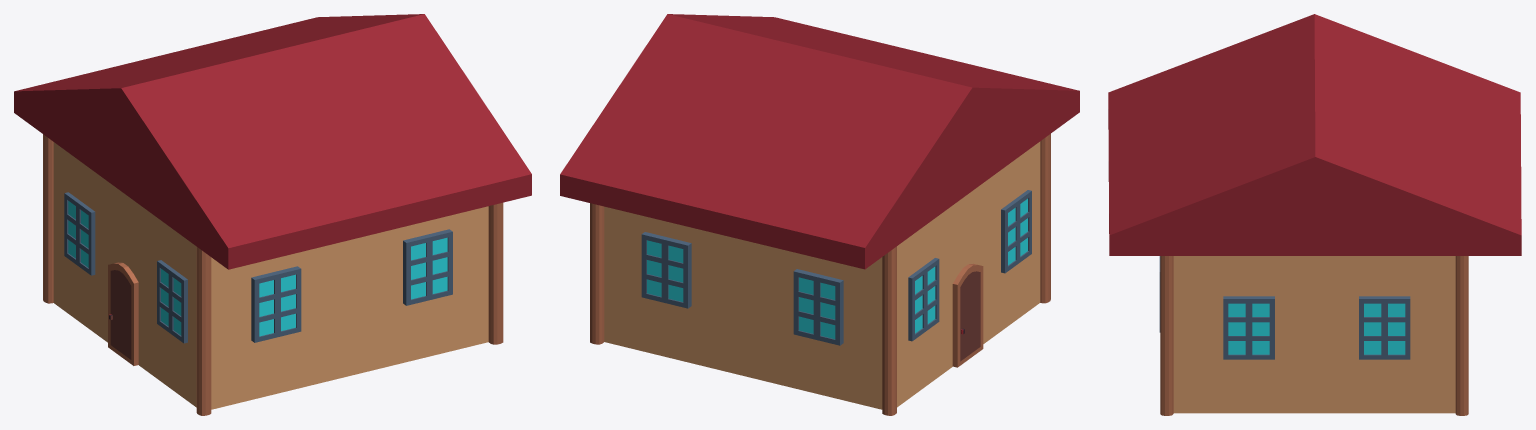
The model's file is dwelling_build_1.fbx.
3 views of the same model, side by side, from view 1: azimuth 30°, elevation 25°; view 2: azimuth 150°, elevation 25°; view 3: azimuth 270°, elevation 25° (orthographic). The views are drawn at different scales.
Visible parts, largest first — view 1: Cube.011, Cube, Cube.014, Cube.015, Cube.010, Cube.009, Cube.008, Cube.001, Cube.013, Cube.006; view 2: Cube.011, Cube, Cube.004, Cube.005, Cube.010, Cube.006, Cube.001, Cube.007, Cube.013, Cube.009; view 3: Cube.011, Cube, Cube.003, Cube.016, Cube.007, Cube.008.
Part boxes in pixels (bbox=[...]): Cube.011: bbox=[14, 14, 531, 269]; Cube: bbox=[53, 142, 488, 409]; Cube.014: bbox=[251, 266, 301, 342]; Cube.015: bbox=[403, 229, 452, 305]; Cube.010: bbox=[108, 262, 138, 365]; Cube.009: bbox=[196, 247, 211, 415]; Cube.008: bbox=[488, 202, 503, 344]; Cube.001: bbox=[64, 192, 95, 275]; Cube.013: bbox=[157, 260, 187, 343]; Cube.006: bbox=[43, 134, 53, 303]; Cube.011: bbox=[560, 14, 1079, 269]; Cube: bbox=[604, 141, 1040, 409]; Cube.004: bbox=[793, 269, 843, 345]; Cube.005: bbox=[641, 232, 691, 308]; Cube.010: bbox=[952, 263, 983, 367]; Cube.006: bbox=[882, 246, 896, 415]; Cube.001: bbox=[908, 258, 939, 341]; Cube.007: bbox=[590, 203, 604, 344]; Cube.013: bbox=[1001, 190, 1031, 273]; Cube.009: bbox=[1040, 134, 1050, 303]; Cube.011: bbox=[1108, 14, 1521, 255]; Cube: bbox=[1173, 256, 1455, 413]; Cube.003: bbox=[1223, 296, 1274, 359]; Cube.016: bbox=[1359, 296, 1410, 359]; Cube.007: bbox=[1455, 256, 1468, 415]; Cube.008: bbox=[1160, 256, 1173, 415].
Bounding box in the file's own units: 5.15 × 4.35 × 6.27.
